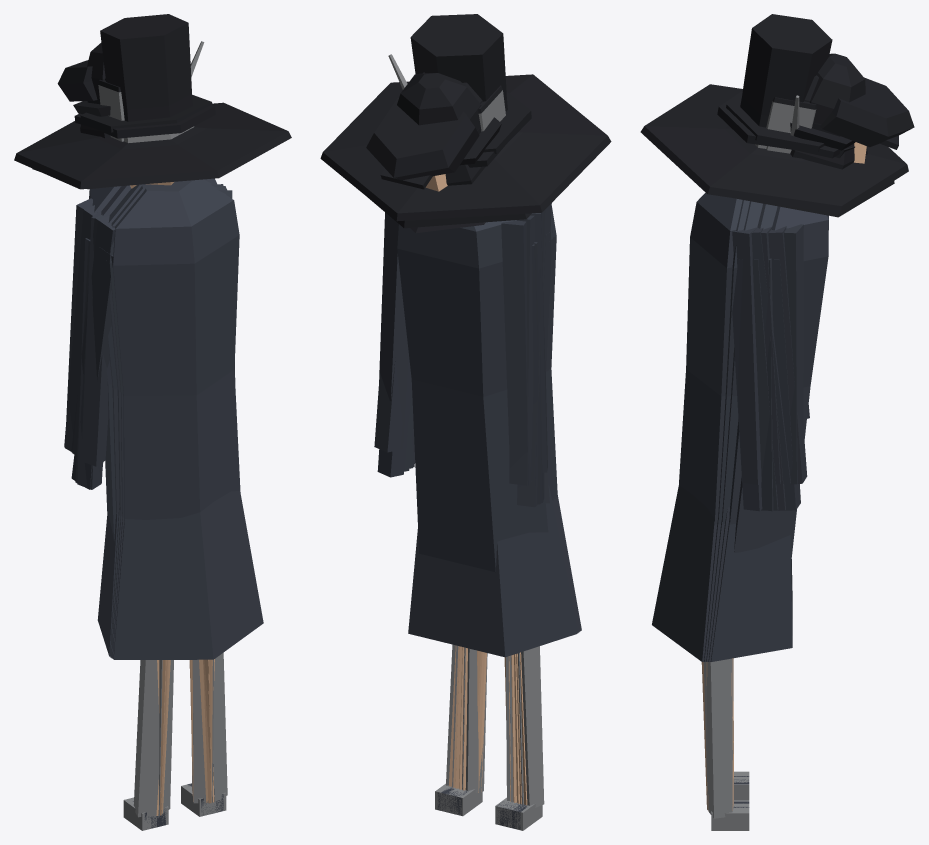
The model's file is crowd_set_6.glb.
The picture shows the model from 3 angles, left to right: view 1: azimuth 30°, elevation 25°; view 2: azimuth 150°, elevation 25°; view 3: azimuth 270°, elevation 25°; orthographic projection. The views are drawn at different scales.
Parts seen in each view (by area): view 1: gent_01_top.004, lady_07_picture.001, gent_00_bowler, gent_03_trilby, gent_02_cap, lady_06_cloche, gent_04_boater, lady_08_pillbox, lady_09_fascinator.001, lady_05_wide.003; view 2: gent_02_cap, lady_07_picture.001, lady_06_cloche, gent_01_top.004, gent_00_bowler, gent_04_boater, gent_03_trilby, lady_05_wide.003, lady_08_pillbox, lady_09_fascinator.001; view 3: gent_01_top.004, lady_07_picture.001, gent_02_cap, lady_06_cloche, gent_00_bowler, gent_04_boater, gent_03_trilby, lady_05_wide.003, lady_08_pillbox, lady_09_fascinator.001.
Part boxes in pixels (<box>): gent_01_top.004: <box>71,14,240,830</box>; lady_07_picture.001: <box>14,102,291,826</box>; gent_00_bowler: <box>64,42,217,824</box>; gent_03_trilby: <box>74,78,225,824</box>; gent_02_cap: <box>57,60,215,822</box>; lady_06_cloche: <box>77,124,211,828</box>; gent_04_boater: <box>72,79,230,818</box>; lady_08_pillbox: <box>75,240,210,819</box>; lady_09_fascinator.001: <box>76,41,209,823</box>; lady_05_wide.003: <box>32,135,223,822</box>; gent_02_cap: <box>366,97,548,824</box>; lady_07_picture.001: <box>320,74,611,824</box>; lady_06_cloche: <box>377,164,577,827</box>; gent_01_top.004: <box>410,14,557,830</box>; gent_00_bowler: <box>374,73,549,827</box>; gent_04_boater: <box>406,85,555,826</box>; gent_03_trilby: <box>423,72,553,827</box>; lady_05_wide.003: <box>370,199,580,829</box>; lady_08_pillbox: <box>412,242,578,828</box>; lady_09_fascinator.001: <box>388,54,579,829</box>; gent_01_top.004: <box>679,14,832,830</box>; lady_07_picture.001: <box>640,84,908,809</box>; gent_02_cap: <box>733,77,914,801</box>; lady_06_cloche: <box>701,143,867,805</box>; gent_00_bowler: <box>703,53,865,809</box>; gent_04_boater: <box>718,95,824,810</box>; gent_03_trilby: <box>722,75,840,801</box>; lady_05_wide.003: <box>704,146,894,810</box>; lady_08_pillbox: <box>708,146,854,807</box>; lady_09_fascinator.001: <box>706,95,799,777</box>.
Bounding box in the file's own units: 0.5099 × 1.77 × 0.5637.
